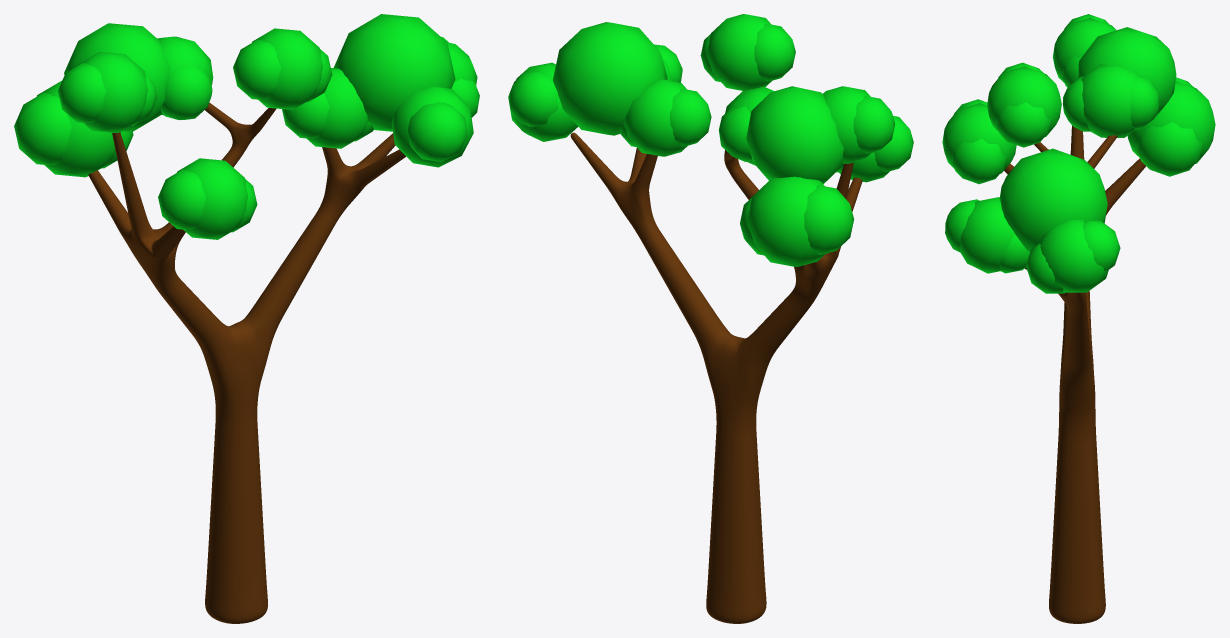
Rendered from tree1.fbx.
3 views of the same model, side by side, from view 1: azimuth 30°, elevation 25°; view 2: azimuth 150°, elevation 25°; view 3: azimuth 270°, elevation 25° (orthographic). The views are drawn at different scales.
Visible parts, largest first — view 1: Vert, Icosphere.025, Icosphere.026, Icosphere.010, Icosphere.013, Icosphere.016, Icosphere.020, Icosphere.004, Icosphere.007, Icosphere.019, Icosphere.003, Icosphere.011 (+6 smaller); view 2: Vert, Icosphere.025, Icosphere.026, Icosphere.019, Icosphere.010, Icosphere.007, Icosphere.020, Icosphere.002, Icosphere.016, Icosphere.017, Icosphere.011, Icosphere.008 (+5 smaller); view 3: Vert, Icosphere.025, Icosphere.026, Icosphere.022, Icosphere.005, Icosphere.003, Icosphere.010, Icosphere.021, Icosphere.019, Icosphere.013, Icosphere.012, Icosphere.015 (+8 smaller).
Part boxes in pixels (left/top/right/bottom): Vert: left=88, top=102, right=405, bottom=623; Icosphere.025: left=333, top=14, right=455, bottom=131; Icosphere.026: left=64, top=23, right=170, bottom=132; Icosphere.010: left=252, top=28, right=322, bottom=109; Icosphere.013: left=177, top=158, right=247, bottom=239; Icosphere.016: left=77, top=51, right=147, bottom=132; Icosphere.020: left=14, top=92, right=72, bottom=164; Icosphere.004: left=408, top=102, right=467, bottom=162; Icosphere.007: left=306, top=68, right=367, bottom=148; Icosphere.019: left=37, top=80, right=120, bottom=177; Icosphere.003: left=391, top=86, right=473, bottom=167; Icosphere.011: left=233, top=39, right=281, bottom=99; Vert: left=570, top=132, right=862, bottom=623; Icosphere.025: left=553, top=22, right=667, bottom=135; Icosphere.026: left=746, top=86, right=843, bottom=183; Icosphere.019: left=747, top=176, right=825, bottom=266; Icosphere.010: left=706, top=14, right=771, bottom=90; Icosphere.007: left=623, top=79, right=687, bottom=156; Icosphere.020: left=804, top=185, right=853, bottom=254; Icosphere.002: left=508, top=71, right=558, bottom=127; Icosphere.016: left=823, top=86, right=871, bottom=163; Icosphere.017: left=853, top=96, right=895, bottom=153; Icosphere.011: left=754, top=23, right=795, bottom=81; Icosphere.008: left=670, top=88, right=711, bottom=146; Vert: left=1004, top=125, right=1145, bottom=623; Icosphere.025: left=999, top=148, right=1107, bottom=251; Icosphere.026: left=1078, top=27, right=1176, bottom=116; Icosphere.022: left=1081, top=64, right=1138, bottom=137; Icosphere.005: left=1040, top=219, right=1108, bottom=292; Icosphere.003: left=959, top=197, right=1014, bottom=273; Icosphere.010: left=987, top=66, right=1061, bottom=137; Icosphere.021: left=1137, top=122, right=1202, bottom=176; Icosphere.019: left=1127, top=81, right=1215, bottom=163; Icosphere.013: left=942, top=103, right=1016, bottom=173; Icosphere.012: left=996, top=102, right=1050, bottom=147; Icosphere.015: left=952, top=138, right=1006, bottom=184.
Size of the model in its own units: 539 by 771 by 344.
